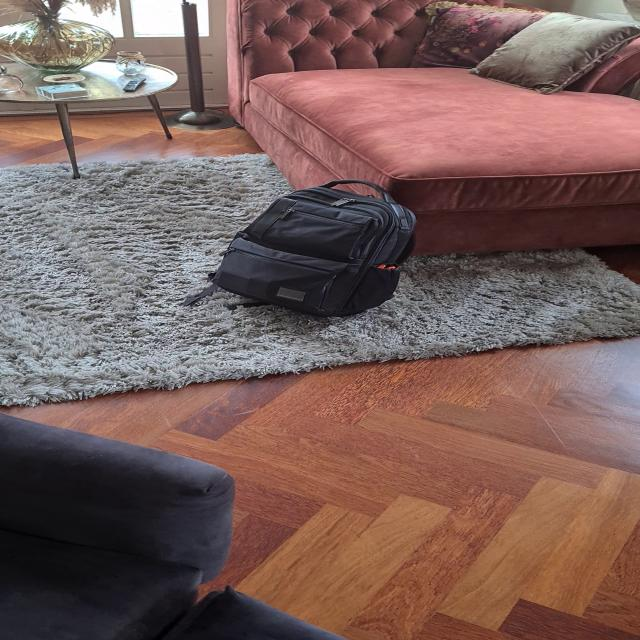backpack: (202, 176, 428, 322)
